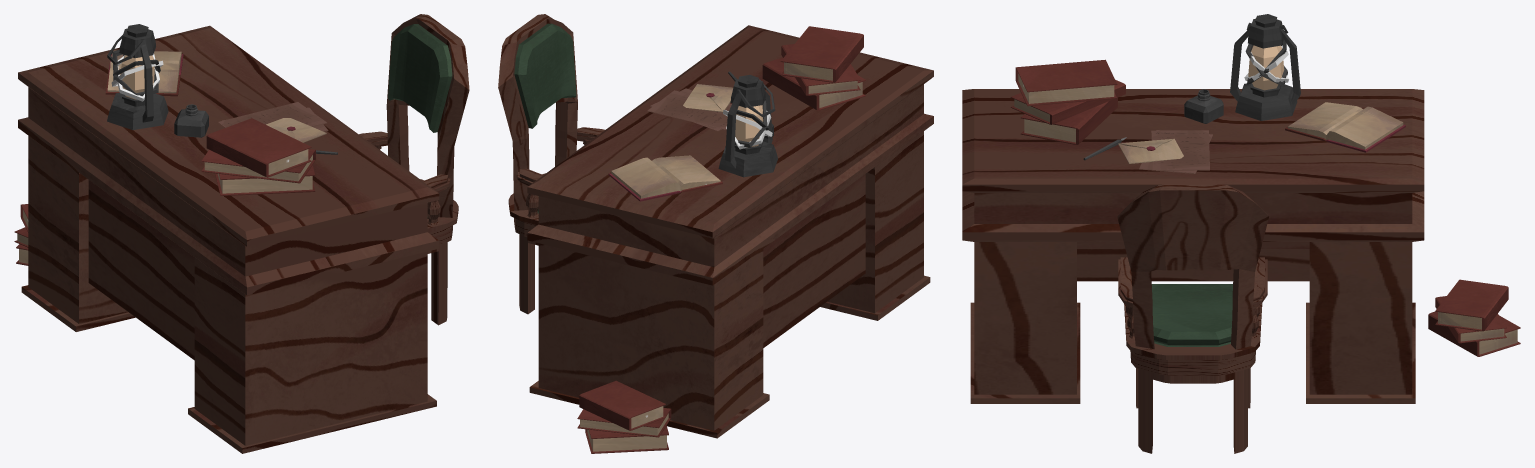
File: masa.fbx
3 views of the same model, side by side, from view 1: azimuth 30°, elevation 25°; view 2: azimuth 150°, elevation 25°; view 3: azimuth 270°, elevation 25° (orthographic). The views are drawn at different scales.
Visible parts, largest first — view 1: Cube, Cube.002, Cylinder, Cube.009, Cube.007, Cube.008, Cube.015, Cube.005, Cube.010, Cube.004, Circle, Cube.012 (+1 smaller); view 2: Cube, Cube.002, Cylinder, Cube.009, Cube.003, Cube.012, Cube.007, Cube.014, Cube.010, Cube.015, Cube.013, Cube.008 (+2 smaller); view 3: Cube, Cube.002, Cylinder, Cube.009, Cube.003, Cube.012, Cube.007, Cube.015, Cube.010, Cube.008, Cube.014, Circle (+3 smaller).
Boxes of the visible parts, bbox=[...] form: Cube: bbox=[18, 25, 439, 453]; Cube.002: bbox=[386, 14, 469, 325]; Cylinder: bbox=[107, 24, 168, 129]; Cube.009: bbox=[206, 118, 311, 177]; Cube.007: bbox=[215, 165, 315, 195]; Cube.008: bbox=[201, 149, 315, 183]; Cube.015: bbox=[218, 102, 326, 127]; Cube.005: bbox=[174, 104, 208, 137]; Cube.010: bbox=[105, 68, 180, 96]; Cube.004: bbox=[266, 118, 326, 142]; Circle: bbox=[359, 131, 450, 192]; Cube.012: bbox=[108, 50, 183, 74]; Cube: bbox=[527, 25, 933, 438]; Cube.002: bbox=[498, 14, 577, 314]; Cylinder: bbox=[718, 75, 777, 177]; Cube.009: bbox=[780, 26, 863, 82]; Cube.003: bbox=[579, 380, 665, 430]; Cube.012: bbox=[608, 157, 680, 201]; Cube.007: bbox=[762, 57, 865, 110]; Cube.014: bbox=[585, 426, 668, 453]; Cube.010: bbox=[652, 155, 722, 192]; Cube.015: bbox=[647, 90, 731, 129]; Cube.013: bbox=[577, 408, 671, 437]; Cube.008: bbox=[781, 44, 860, 95]; Cube: bbox=[962, 89, 1424, 403]; Cube.002: bbox=[1117, 184, 1268, 453]; Cylinder: bbox=[1230, 14, 1300, 120]; Cube.009: bbox=[1015, 59, 1117, 106]; Cube.003: bbox=[1435, 279, 1508, 331]; Cube.012: bbox=[1325, 106, 1405, 152]; Cube.007: bbox=[1020, 97, 1117, 144]; Cube.015: bbox=[1151, 130, 1209, 170]; Cube.010: bbox=[1285, 102, 1362, 140]; Cube.008: bbox=[1010, 80, 1125, 124]; Cube.014: bbox=[1428, 311, 1520, 356]; Circle: bbox=[1118, 257, 1267, 308].
Size of the model in its own units: 548 by 515 by 840.
Materials: 12 (10 with a texture image).
